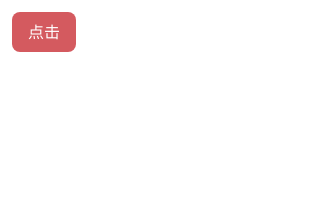
Test case: Dropdown › 应该支持多级菜单
Click the button "点击".
click(44, 32)  # box [12,12,76,52]
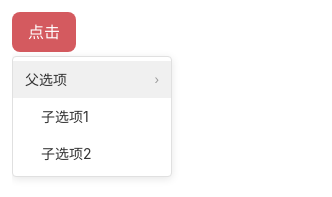
Now the text "子选项1" is shown, box [41,106,89,127]
Now the text "子选项2" is shown, box [41,143,92,164]
